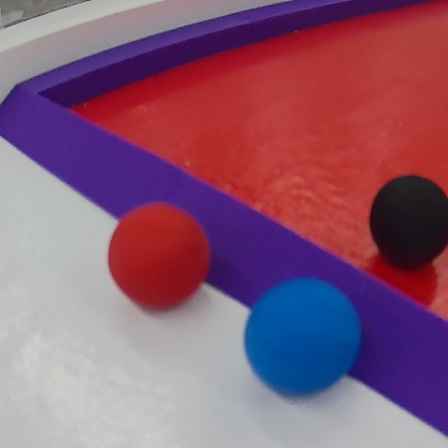black: (371, 173, 448, 271)
blue: (242, 275, 365, 397)
red: (103, 202, 211, 316)
red_aim: (2, 3, 448, 436)
